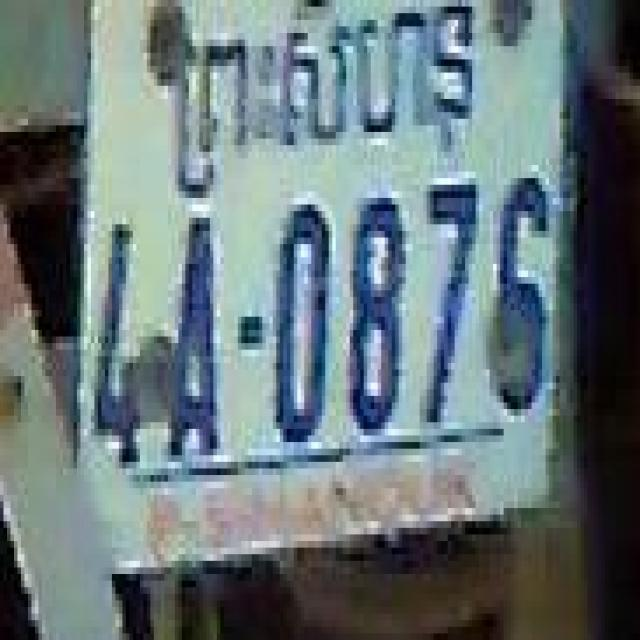Preah_Sihanouk: (175, 0, 473, 193)
